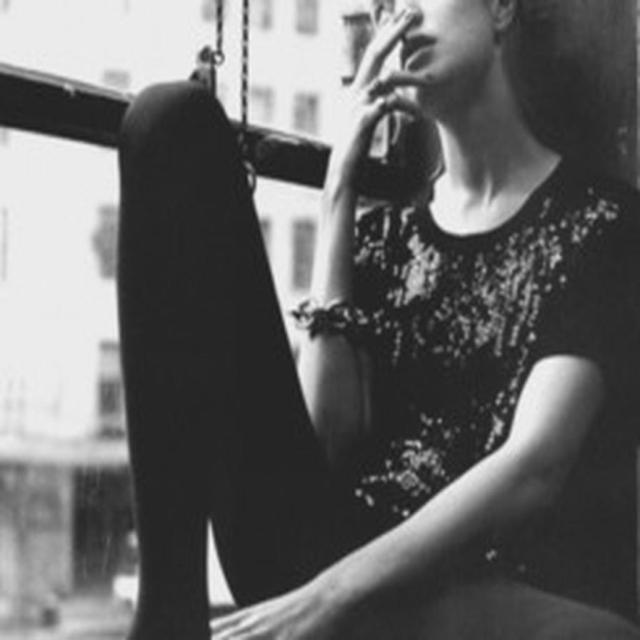smoking: (332, 0, 560, 161)
